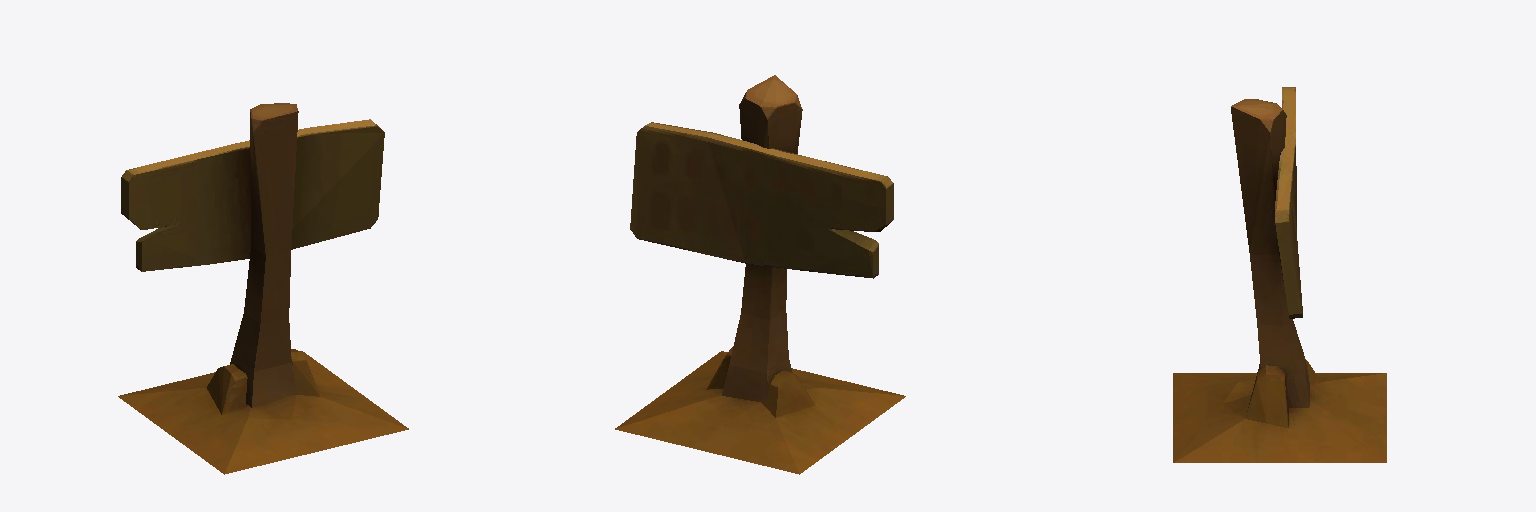
The picture shows the model from 3 angles: view 1: azimuth 30°, elevation 25°; view 2: azimuth 150°, elevation 25°; view 3: azimuth 270°, elevation 25°; orthographic projection.
Parts seen in each view (by area): view 1: OBJ_Bulletin_01; view 2: OBJ_Bulletin_01; view 3: OBJ_Bulletin_01.
Boxes of the visible parts, box(x1,y1,x2,y2) form: OBJ_Bulletin_01: box(118, 103, 408, 474); OBJ_Bulletin_01: box(615, 75, 905, 474); OBJ_Bulletin_01: box(1173, 87, 1386, 462).
Bounding box in the file's own units: 1.64 × 1.96 × 1.2.
Materials: 1 (1 with a texture image).